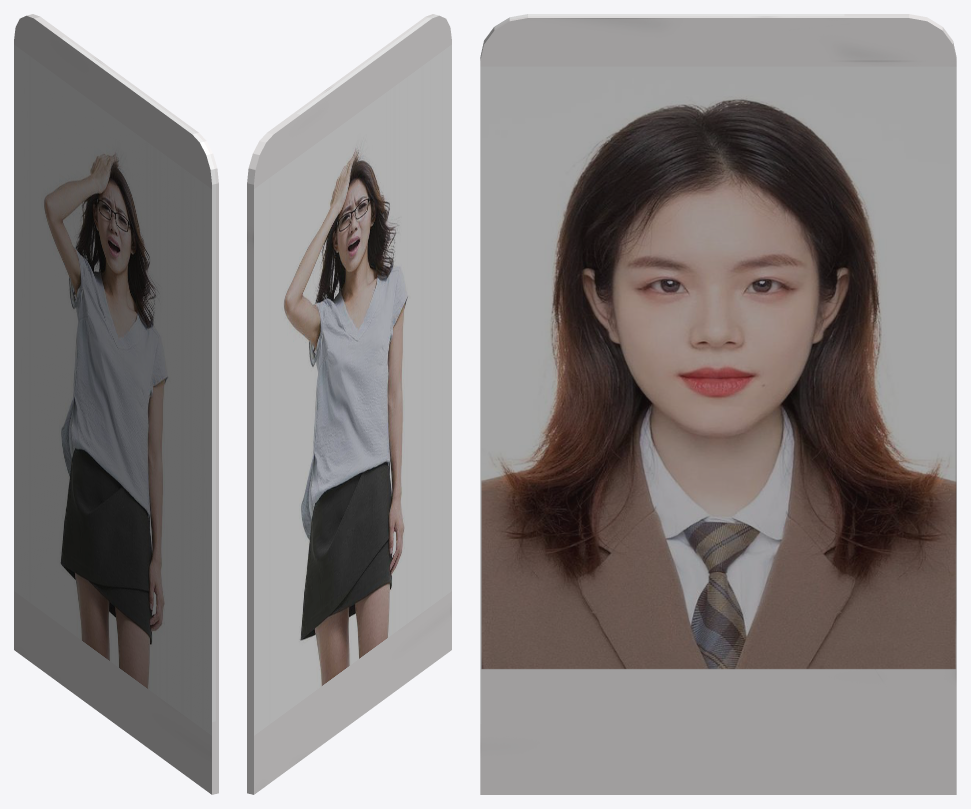
Rendered from blank_link.dae.
The picture shows the model from 3 angles, left to right: view 1: azimuth 30°, elevation 25°; view 2: azimuth 150°, elevation 25°; view 3: azimuth 270°, elevation 25°; orthographic projection. The views are drawn at different scales.
Parts seen in each view (by area): view 1: blank_link; view 2: blank_link; view 3: blank_link.
Part boxes in pixels (<box>): blank_link: <box>14,14,218,794</box>; blank_link: <box>247,14,451,794</box>; blank_link: <box>480,14,956,794</box>.
Size of the model in its own units: 0.02 by 1 by 1.8.
Materials: 1 (1 with a texture image).
